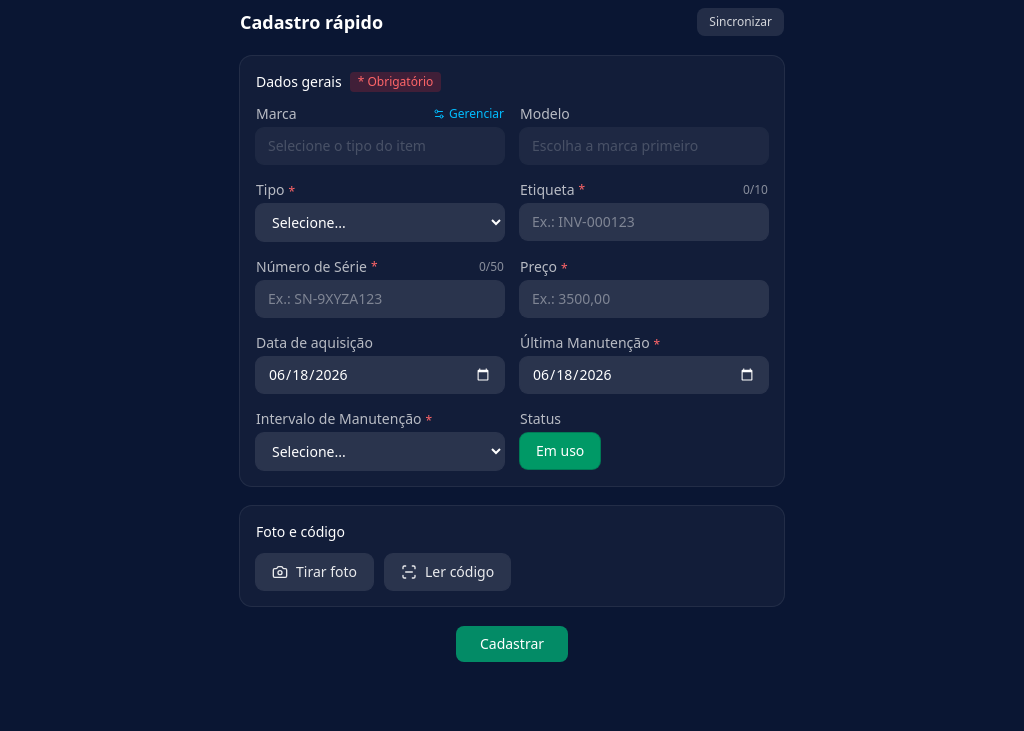
Test case: CadastroMobile › (erro) 401 notifica erro de sessão sem perder a fila pendente
The width and height of the screenshot is (1024, 731).
Select "Notebook" in the dropdown labelled "Tipo" at (380, 222), box x1=256 y1=204 x2=504 y2=241
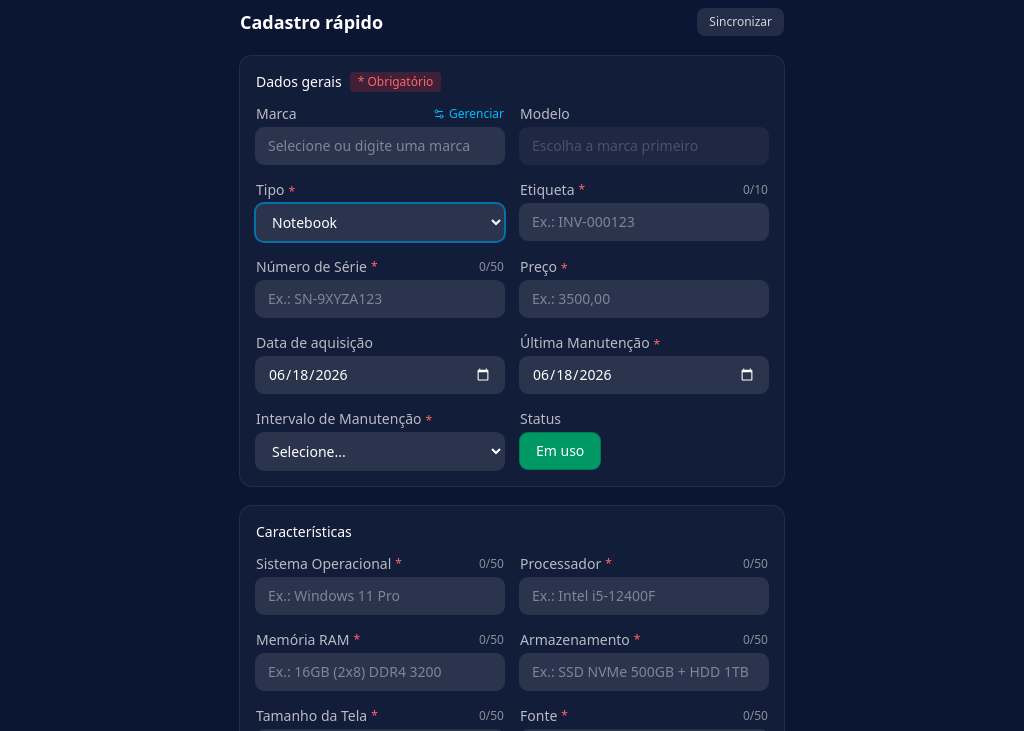
Type "INV-1" into the field with placeholder "Ex.: INV-000123".
click(644, 222); type("INV-1")  # box x1=520 y1=204 x2=768 y2=240
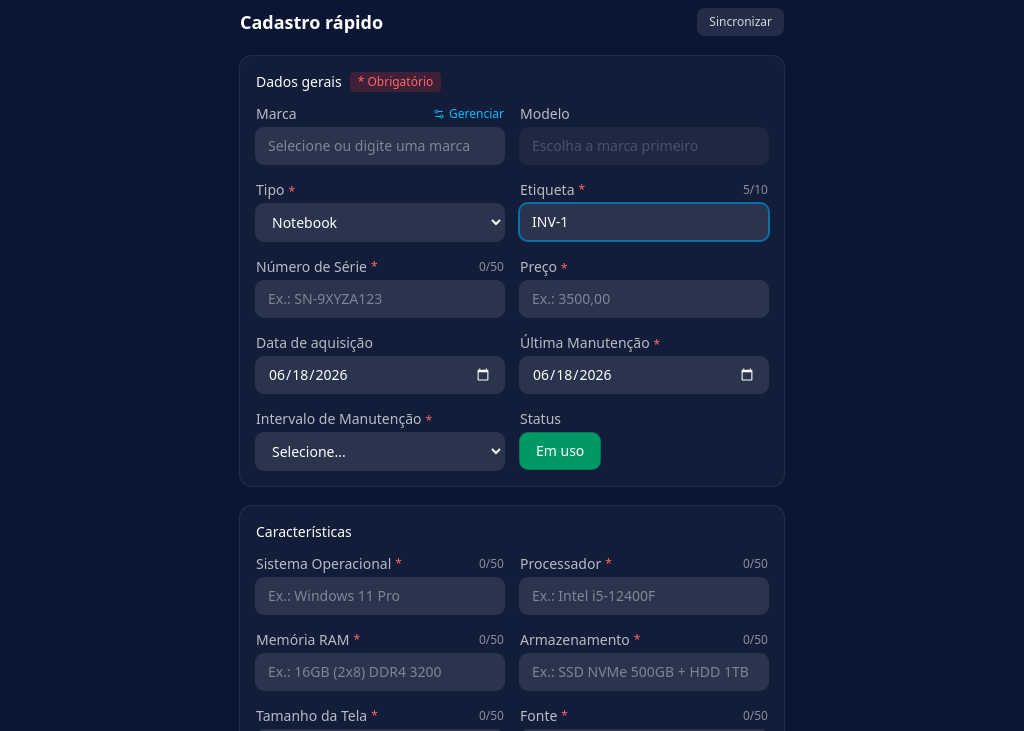
Type "SN1" into the field with placeholder "Ex.: SN-9XYZA123".
click(380, 299); type("SN1")  # box x1=256 y1=281 x2=504 y2=317
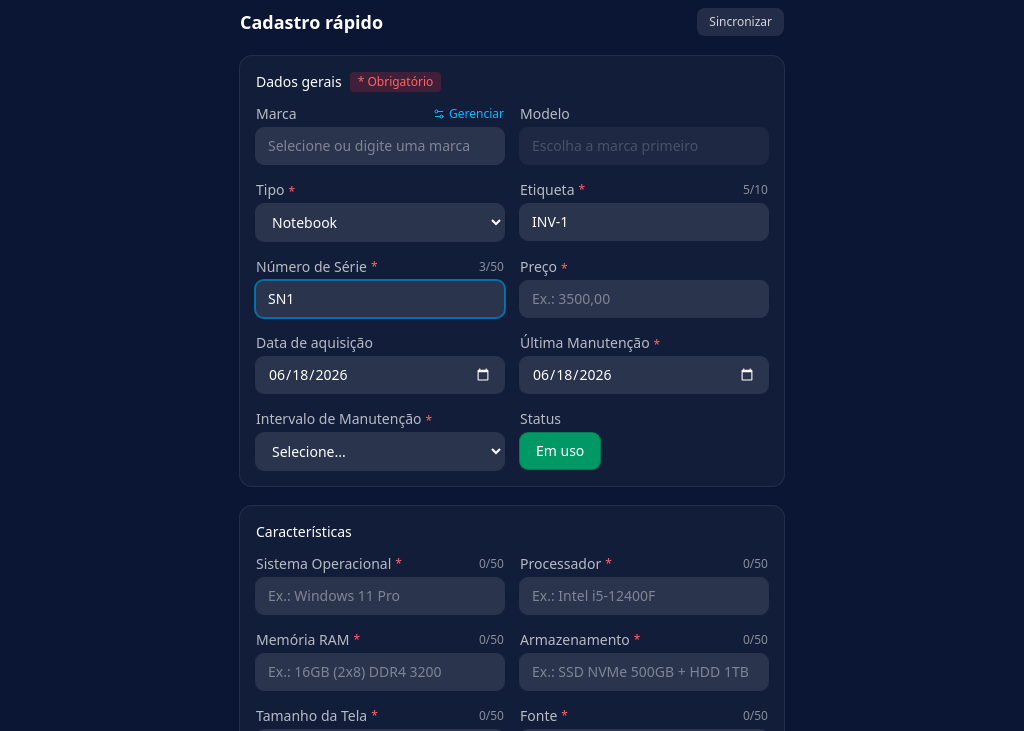
Type "350000" into the field with placeholder "Ex.: 3500,00".
click(644, 299); type("350000")  # box x1=520 y1=281 x2=768 y2=317
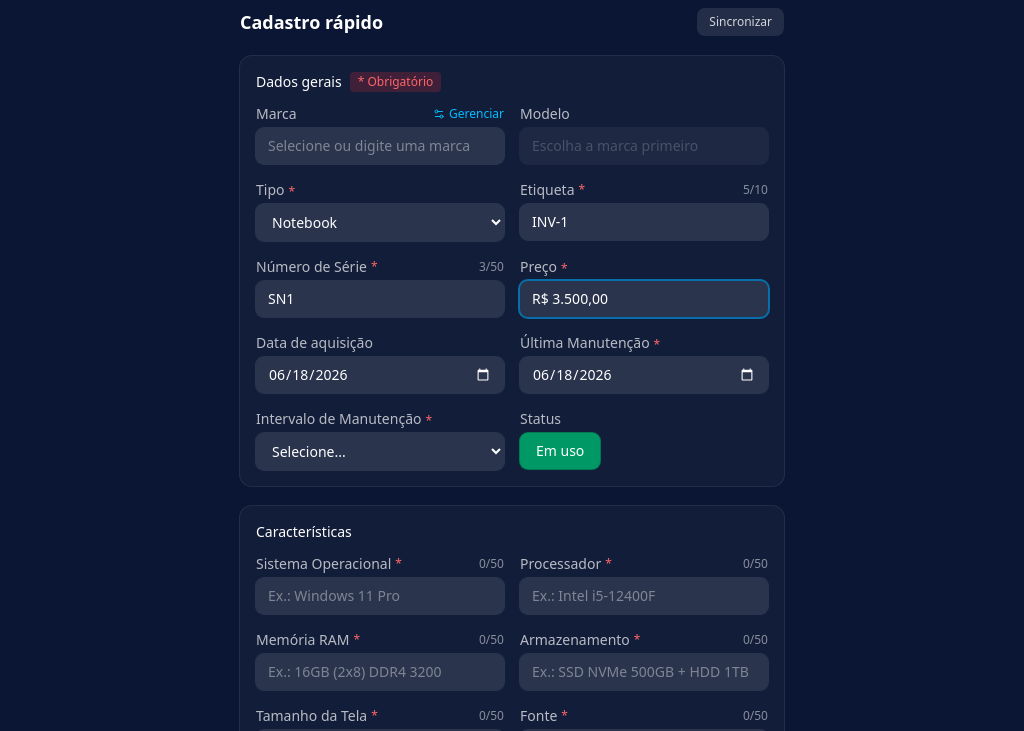
Select "3 meses" in the dropdown labelled "Intervalo de Manutenção" at (380, 452), box x1=256 y1=433 x2=504 y2=470
(page scrolled)
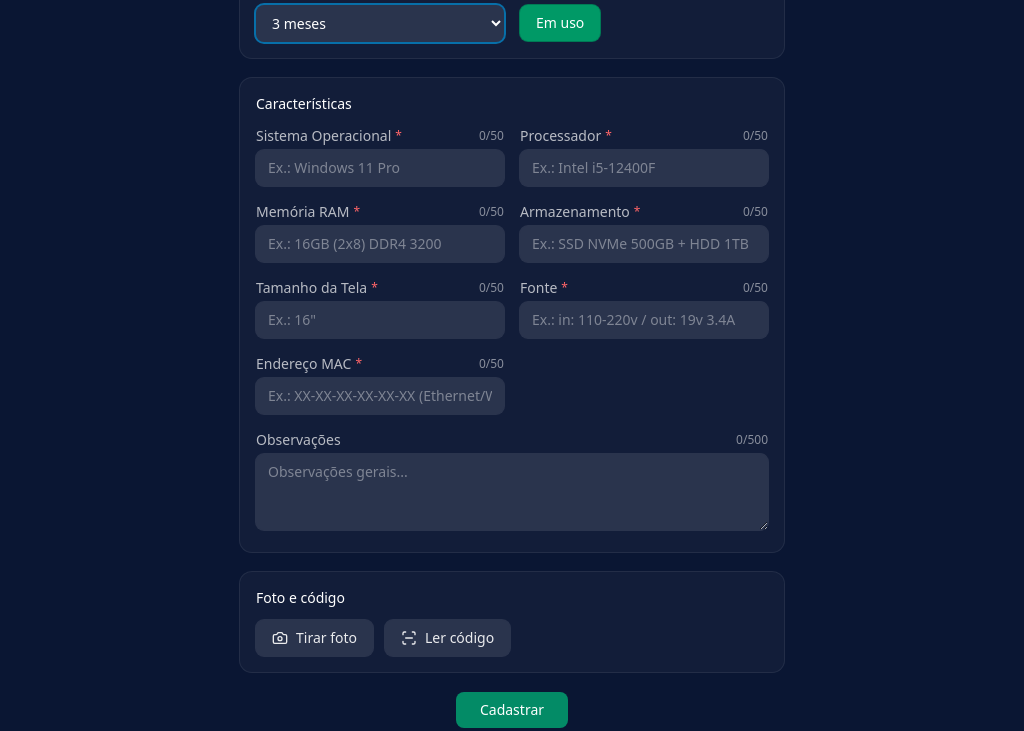
Click the button "Cadastrar".
click(512, 710)  # box x1=456 y1=692 x2=568 y2=728
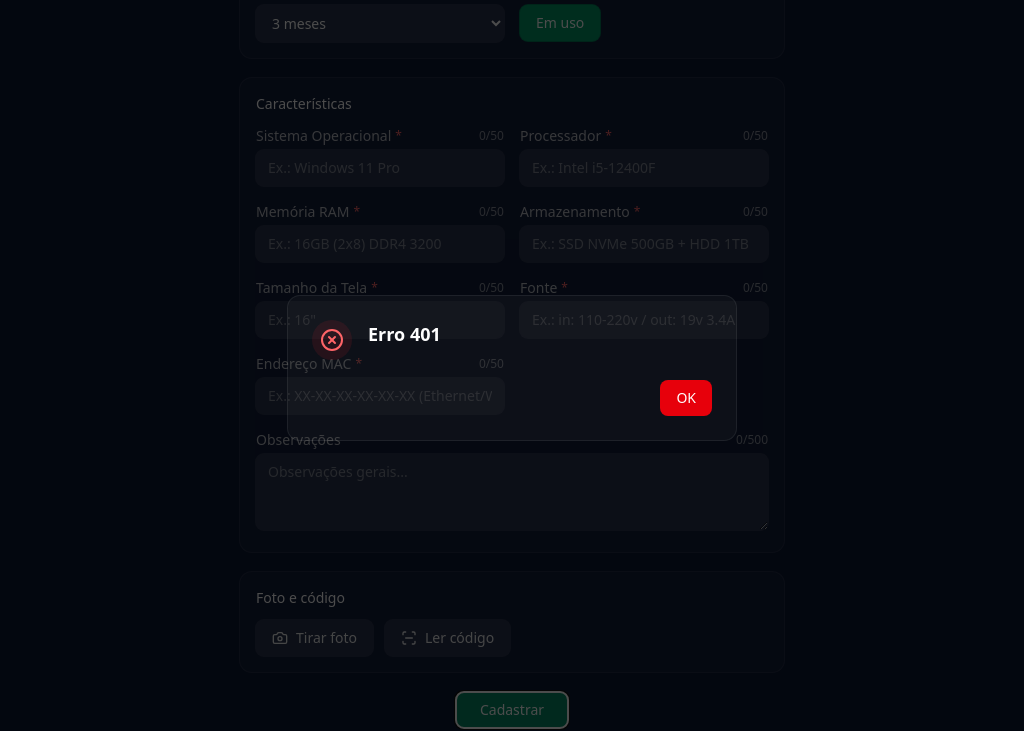
expect the heading "Erro 401" is shown: met, box x1=368 y1=322 x2=441 y2=346
